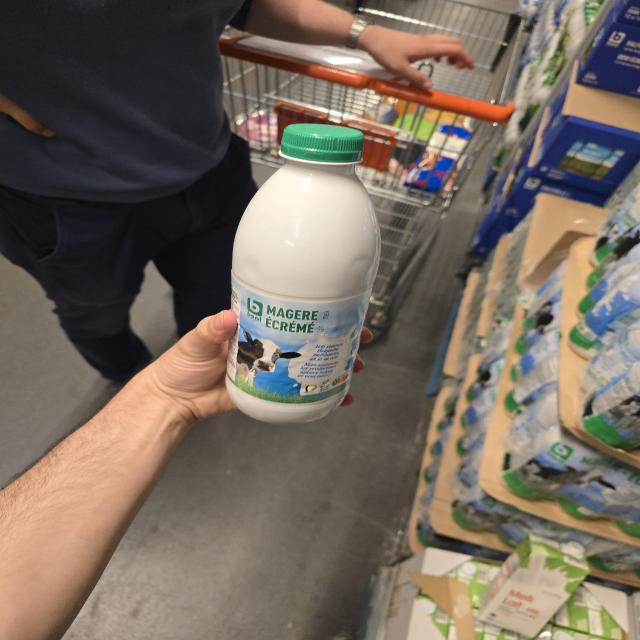Milk: (226, 124, 380, 424)
